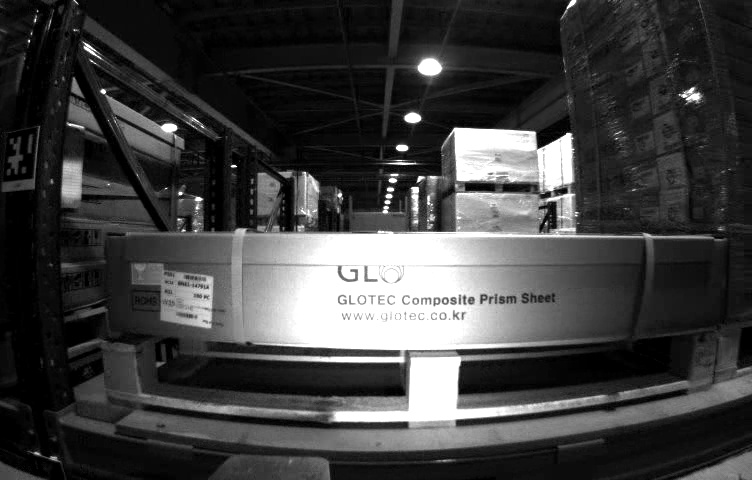True Barcode: (160, 269, 212, 333)
